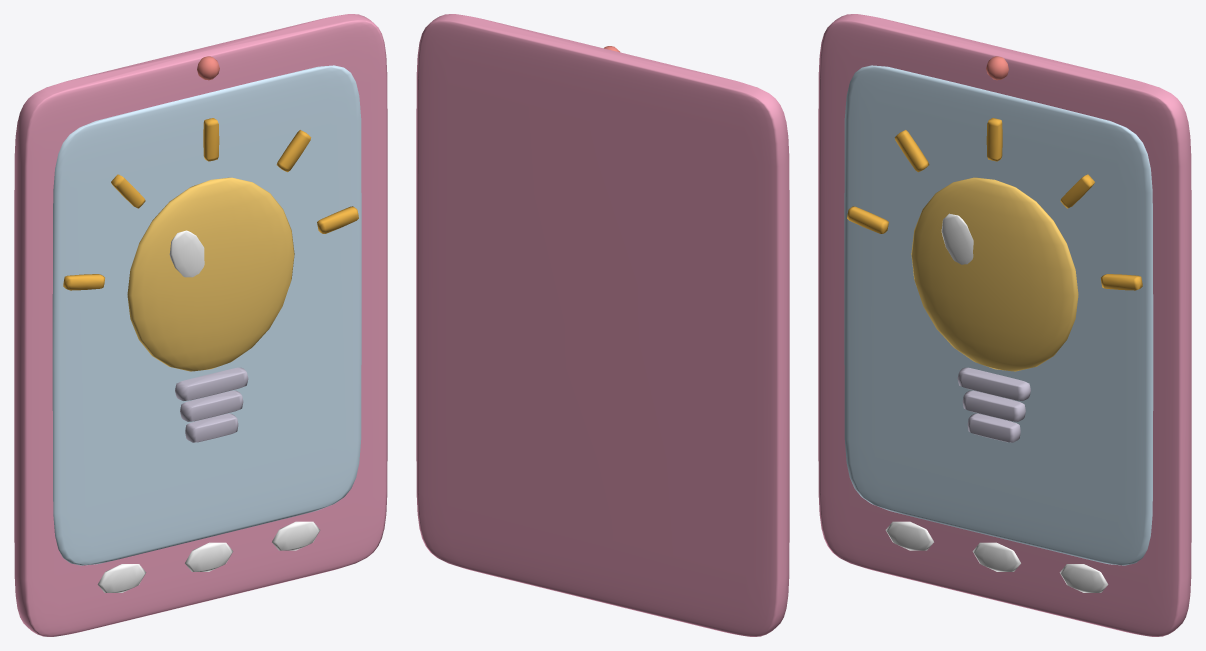
The model's file is poster.glb.
The picture shows the model from 3 angles, left to right: view 1: azimuth 30°, elevation 25°; view 2: azimuth 150°, elevation 25°; view 3: azimuth 330°, elevation 25°; orthographic projection.
Visible parts, largest first — view 1: poster; view 2: poster; view 3: poster.
Part boxes in pixels (<box>): poster: <box>14,14,387,636</box>; poster: <box>416,14,789,636</box>; poster: <box>818,14,1191,636</box>.
Bounding box in the file's own units: 1.05 × 1.5 × 0.122.
Materials: 1 (1 with a texture image).
